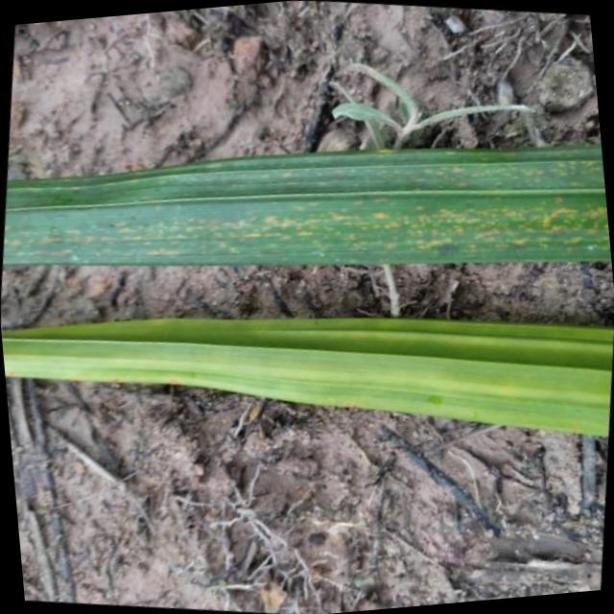nitrogen: (0, 139, 614, 269), (0, 315, 614, 443)
